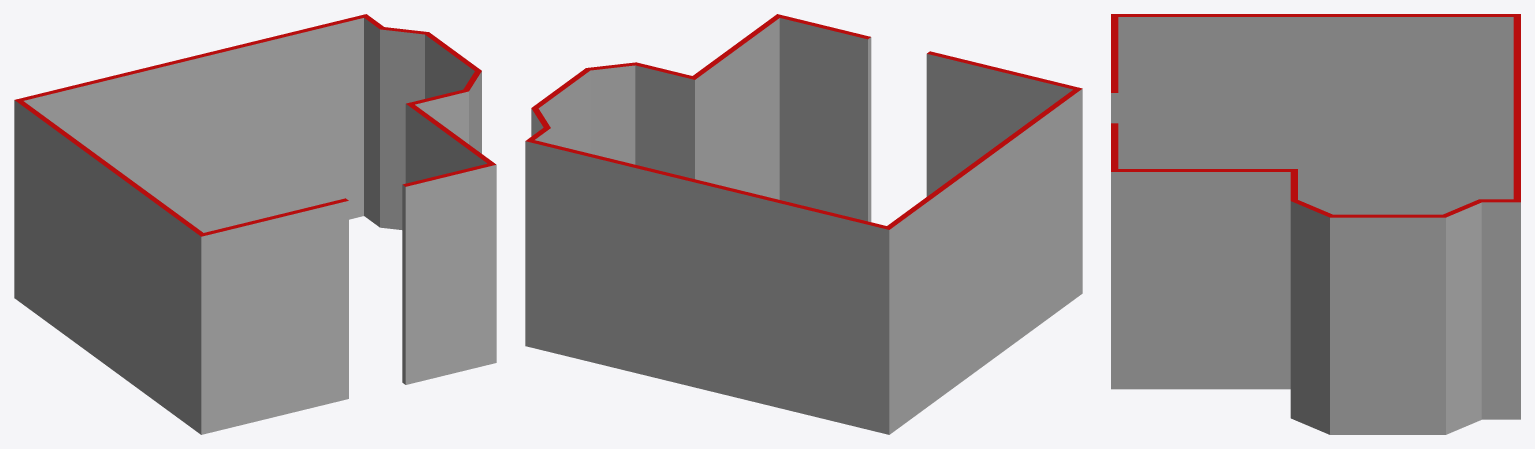
File: x_BAZE_CONTUR_K4_part1_1_rmstrd.fbx
3 renders of one model, left to right at view 1: azimuth 30°, elevation 25°; view 2: azimuth 150°, elevation 25°; view 3: azimuth 270°, elevation 25°, orthographic. The views are drawn at different scales.
Parts seen in each view (by area): view 1: x_BAZE_CONTUR_K4_part1_1_rmstrd1; view 2: x_BAZE_CONTUR_K4_part1_1_rmstrd1; view 3: x_BAZE_CONTUR_K4_part1_1_rmstrd1.
Boxes of the visible parts, x1,y1,x2,y2 form: x_BAZE_CONTUR_K4_part1_1_rmstrd1: [14, 14, 496, 434]; x_BAZE_CONTUR_K4_part1_1_rmstrd1: [525, 14, 1082, 434]; x_BAZE_CONTUR_K4_part1_1_rmstrd1: [1111, 14, 1520, 434].
Bounding box in the file's own units: 26.8 × 13.34 × 22.8.
